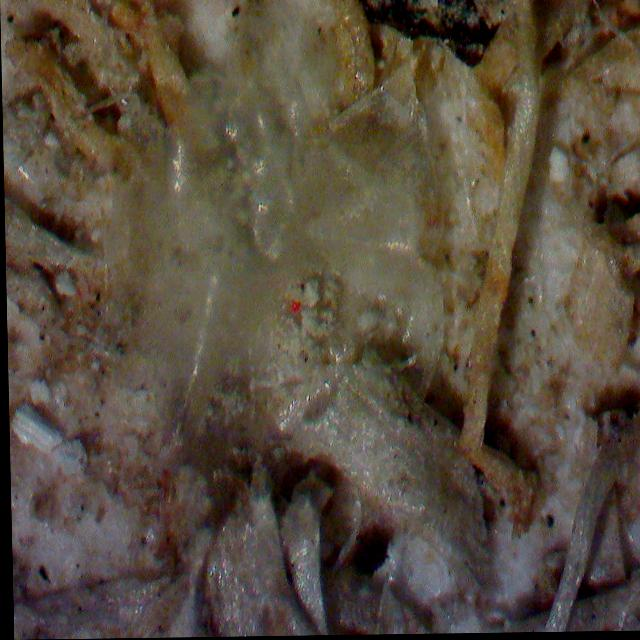microplastic: (99, 68, 444, 450)
